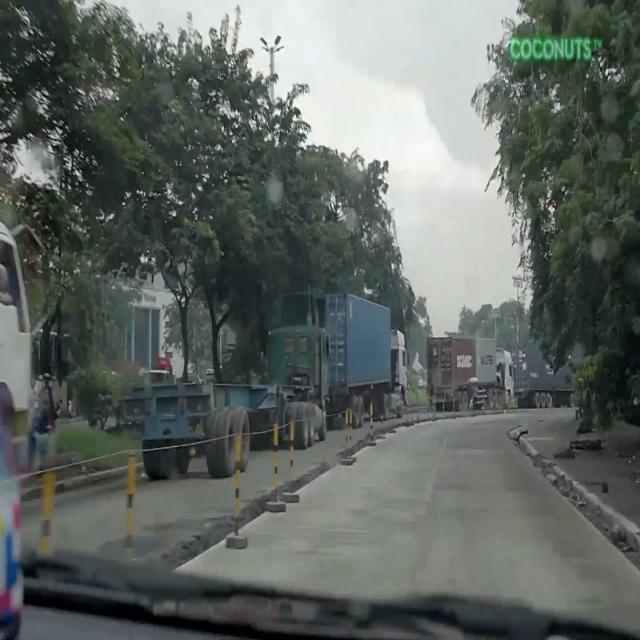truck: (142, 288, 328, 482), (302, 286, 408, 434), (426, 333, 514, 411), (514, 340, 583, 407)
